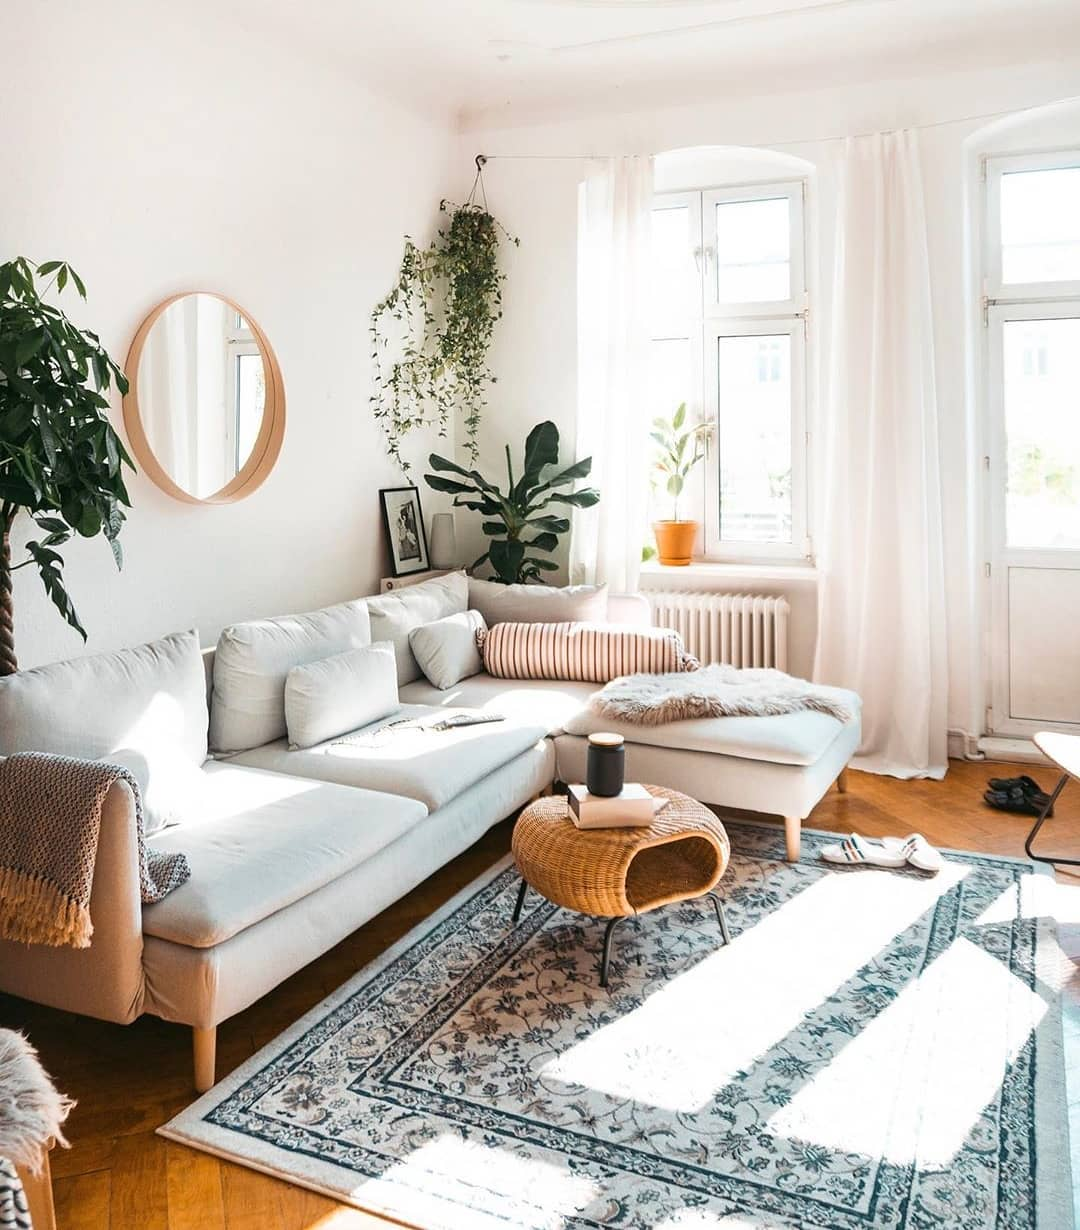meja: (515, 732, 745, 961)
sova: (32, 569, 865, 1084)
tanaman: (2, 253, 109, 661), (353, 206, 527, 453), (438, 430, 597, 585), (631, 394, 726, 577)
